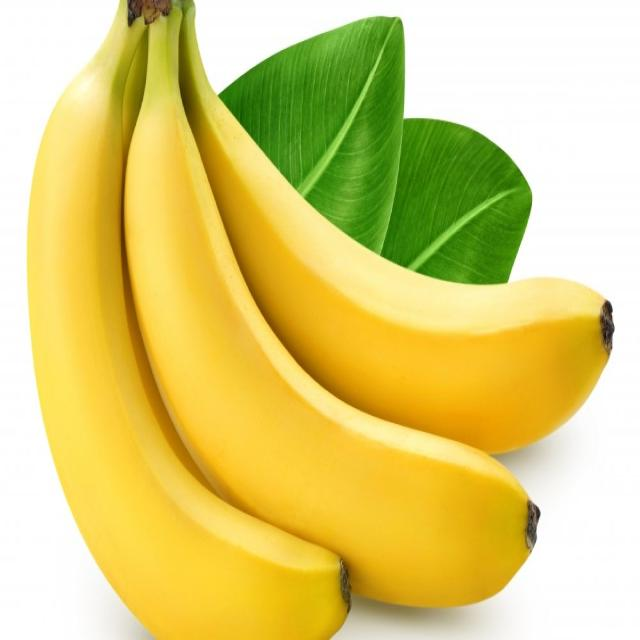Quả chuối: (21, 40, 356, 640)
